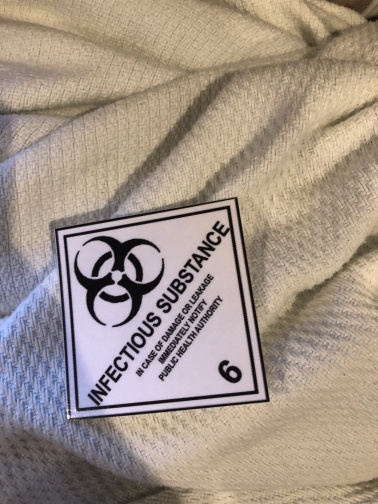InfectiousSubstance: (56, 199, 269, 421)
